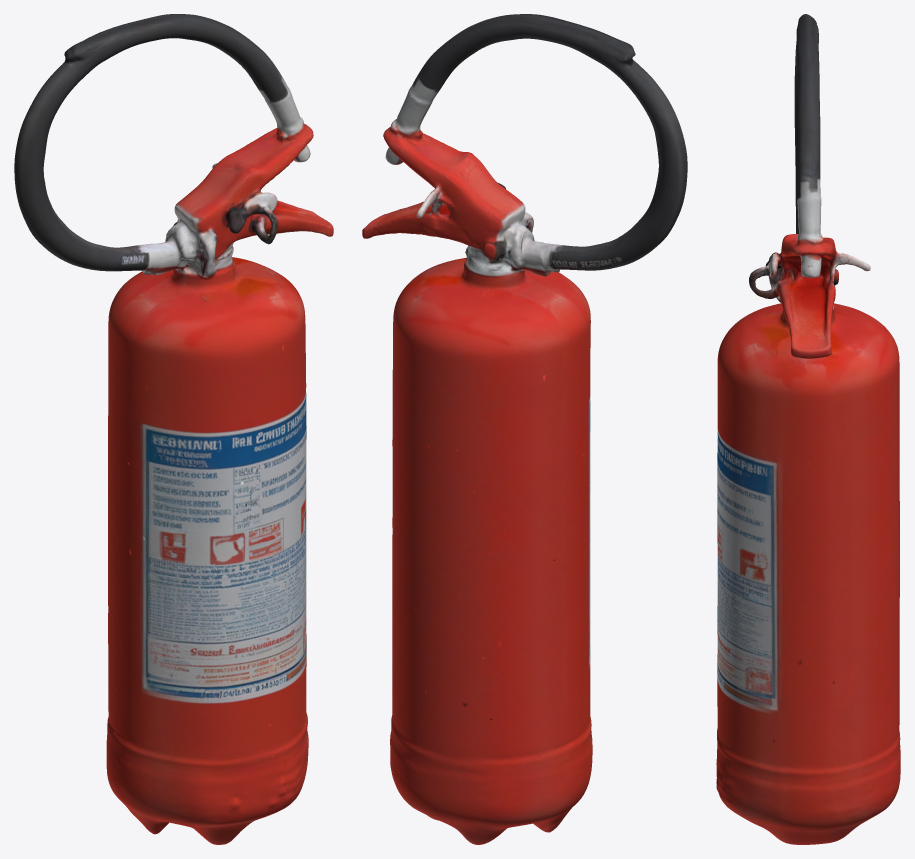
File: estintore_amin.glb
The picture shows the model from 3 angles, left to right: view 1: azimuth 30°, elevation 25°; view 2: azimuth 150°, elevation 25°; view 3: azimuth 270°, elevation 25°; orthographic projection. The views are drawn at different scales.
Bounding box in the file's own units: 0.8065 × 2 × 0.4404.
Materials: 1 (1 with a texture image).
